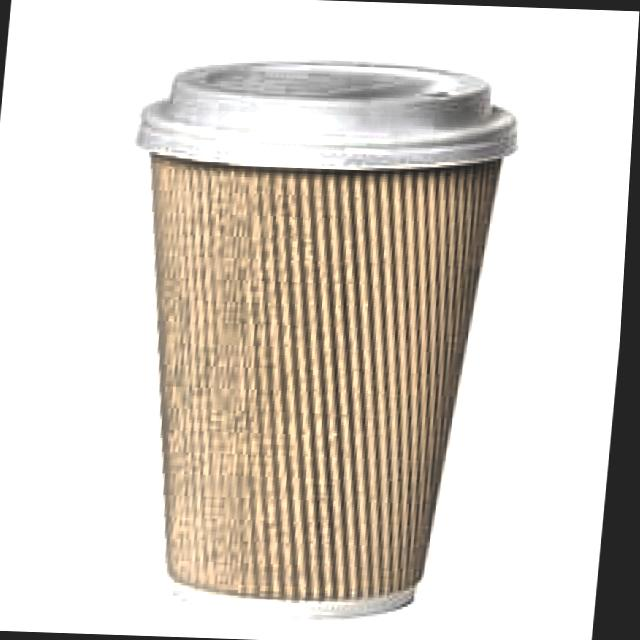Cup: (92, 47, 537, 629)
